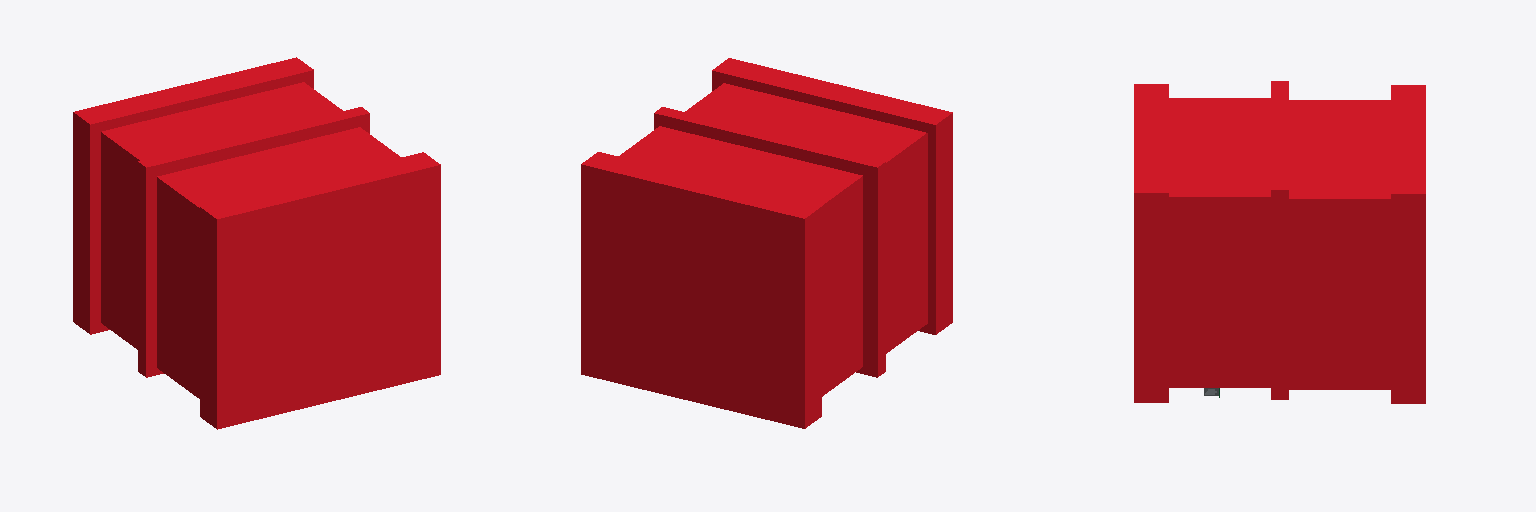
The model's file is tinker.obj.
3 renders of one model, left to right at view 1: azimuth 30°, elevation 25°; view 2: azimuth 150°, elevation 25°; view 3: azimuth 270°, elevation 25°, orthographic.
Parts seen in each view (by area): view 1: obj_0; view 2: obj_0; view 3: obj_0.
Boxes of the visible parts, x1=… form: obj_0: x1=73, y1=57, x2=440, y2=429; obj_0: x1=581, y1=58, x2=952, y2=428; obj_0: x1=1134, y1=81, x2=1425, y2=403.
Bounding box in the file's own units: 9 × 9 × 10.